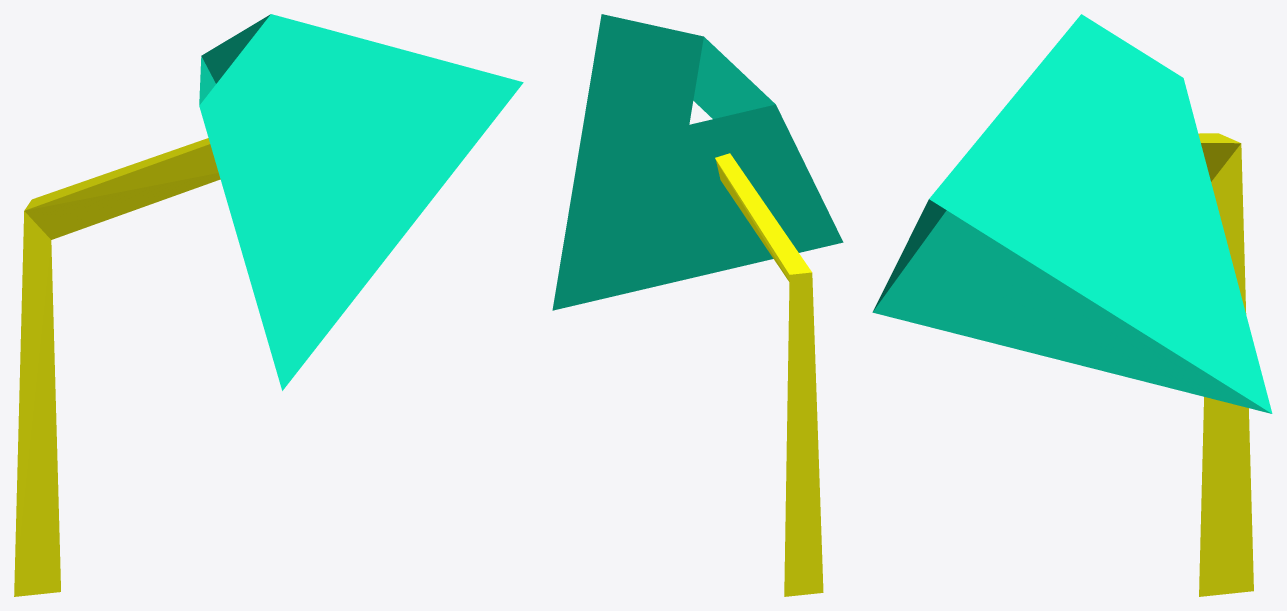
Rendered from Schreibtischlampe_Fixmontiert_285.glb.
3 renders of one model, left to right at view 1: azimuth 30°, elevation 25°; view 2: azimuth 150°, elevation 25°; view 3: azimuth 270°, elevation 25°, orthographic. The views are drawn at different scales.
Parts seen in each view (by area): view 1: pCylinderShape68, pCylinderShape66; view 2: pCylinderShape68, pCylinderShape66; view 3: pCylinderShape68, pCylinderShape66.
Part boxes in pixels (x1,y1,x2,y2): pCylinderShape68: (199,14,523,390); pCylinderShape66: (14,138,220,596); pCylinderShape68: (552,14,843,310); pCylinderShape66: (715,153,823,596); pCylinderShape68: (872,14,1272,413); pCylinderShape66: (1198,133,1253,596).
Size of the model in its own units: 0.0569 by 0.0808 by 0.0434.
